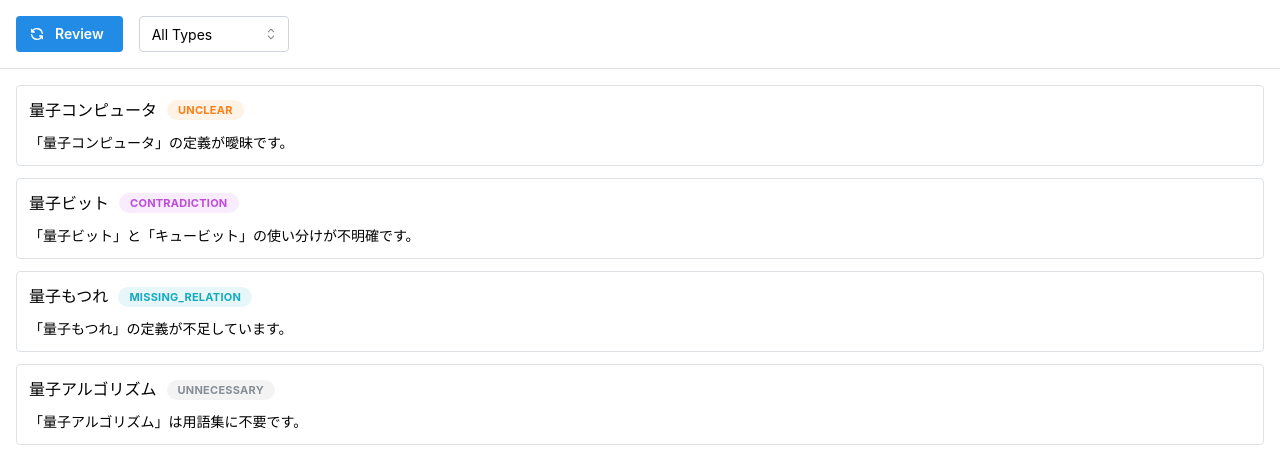
Test: IssuesPage › filters issues by type
Expected: the text "unclear" is shown, 178,101 -> 233,119
# Click on filter dropdown
Click the field.
click(214, 34)  # box 139,16 -> 289,52
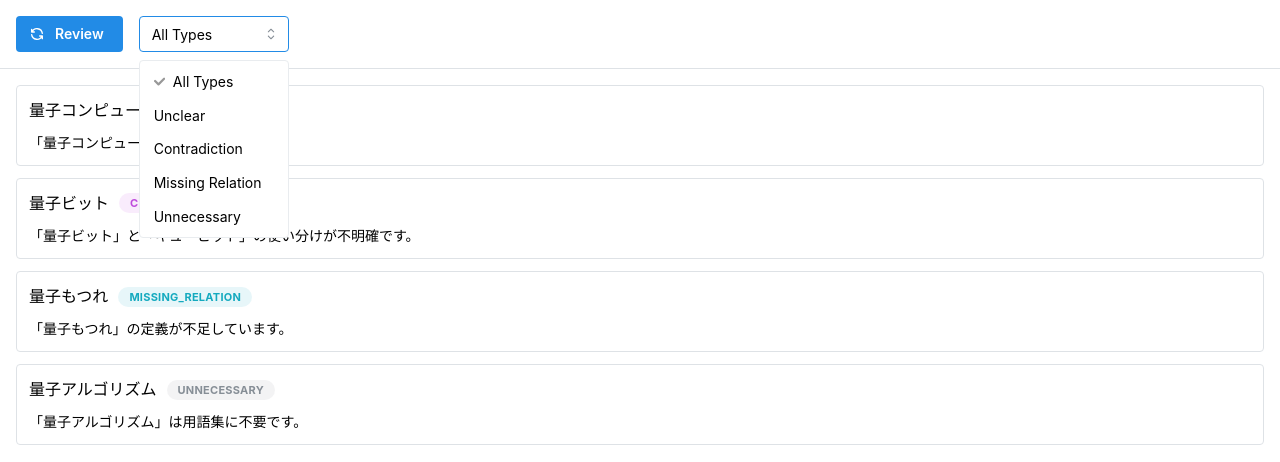
Now the text "Unclear" is shown
Click the option "Unclear".
click(179, 115)  # box 154,107 -> 205,124
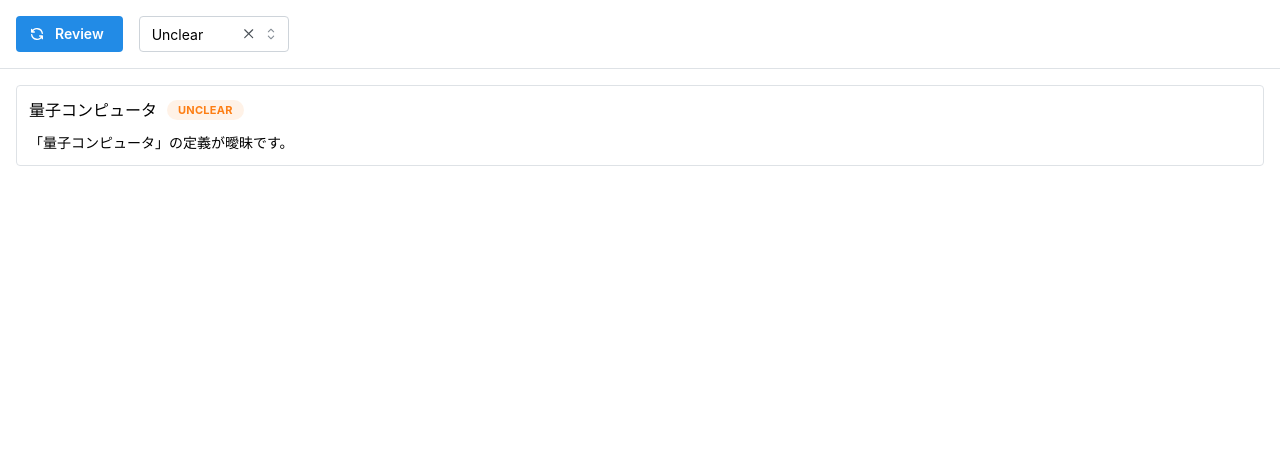
Now the text "contradiction" is gone
